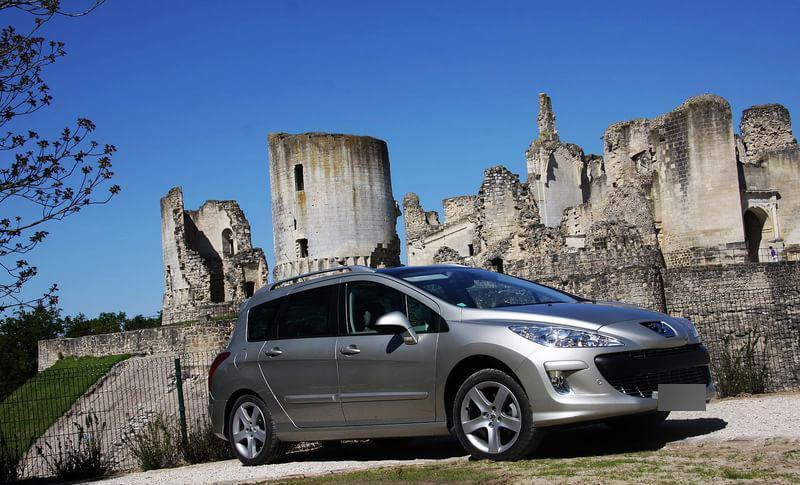Wagon: (207, 262, 717, 463)
